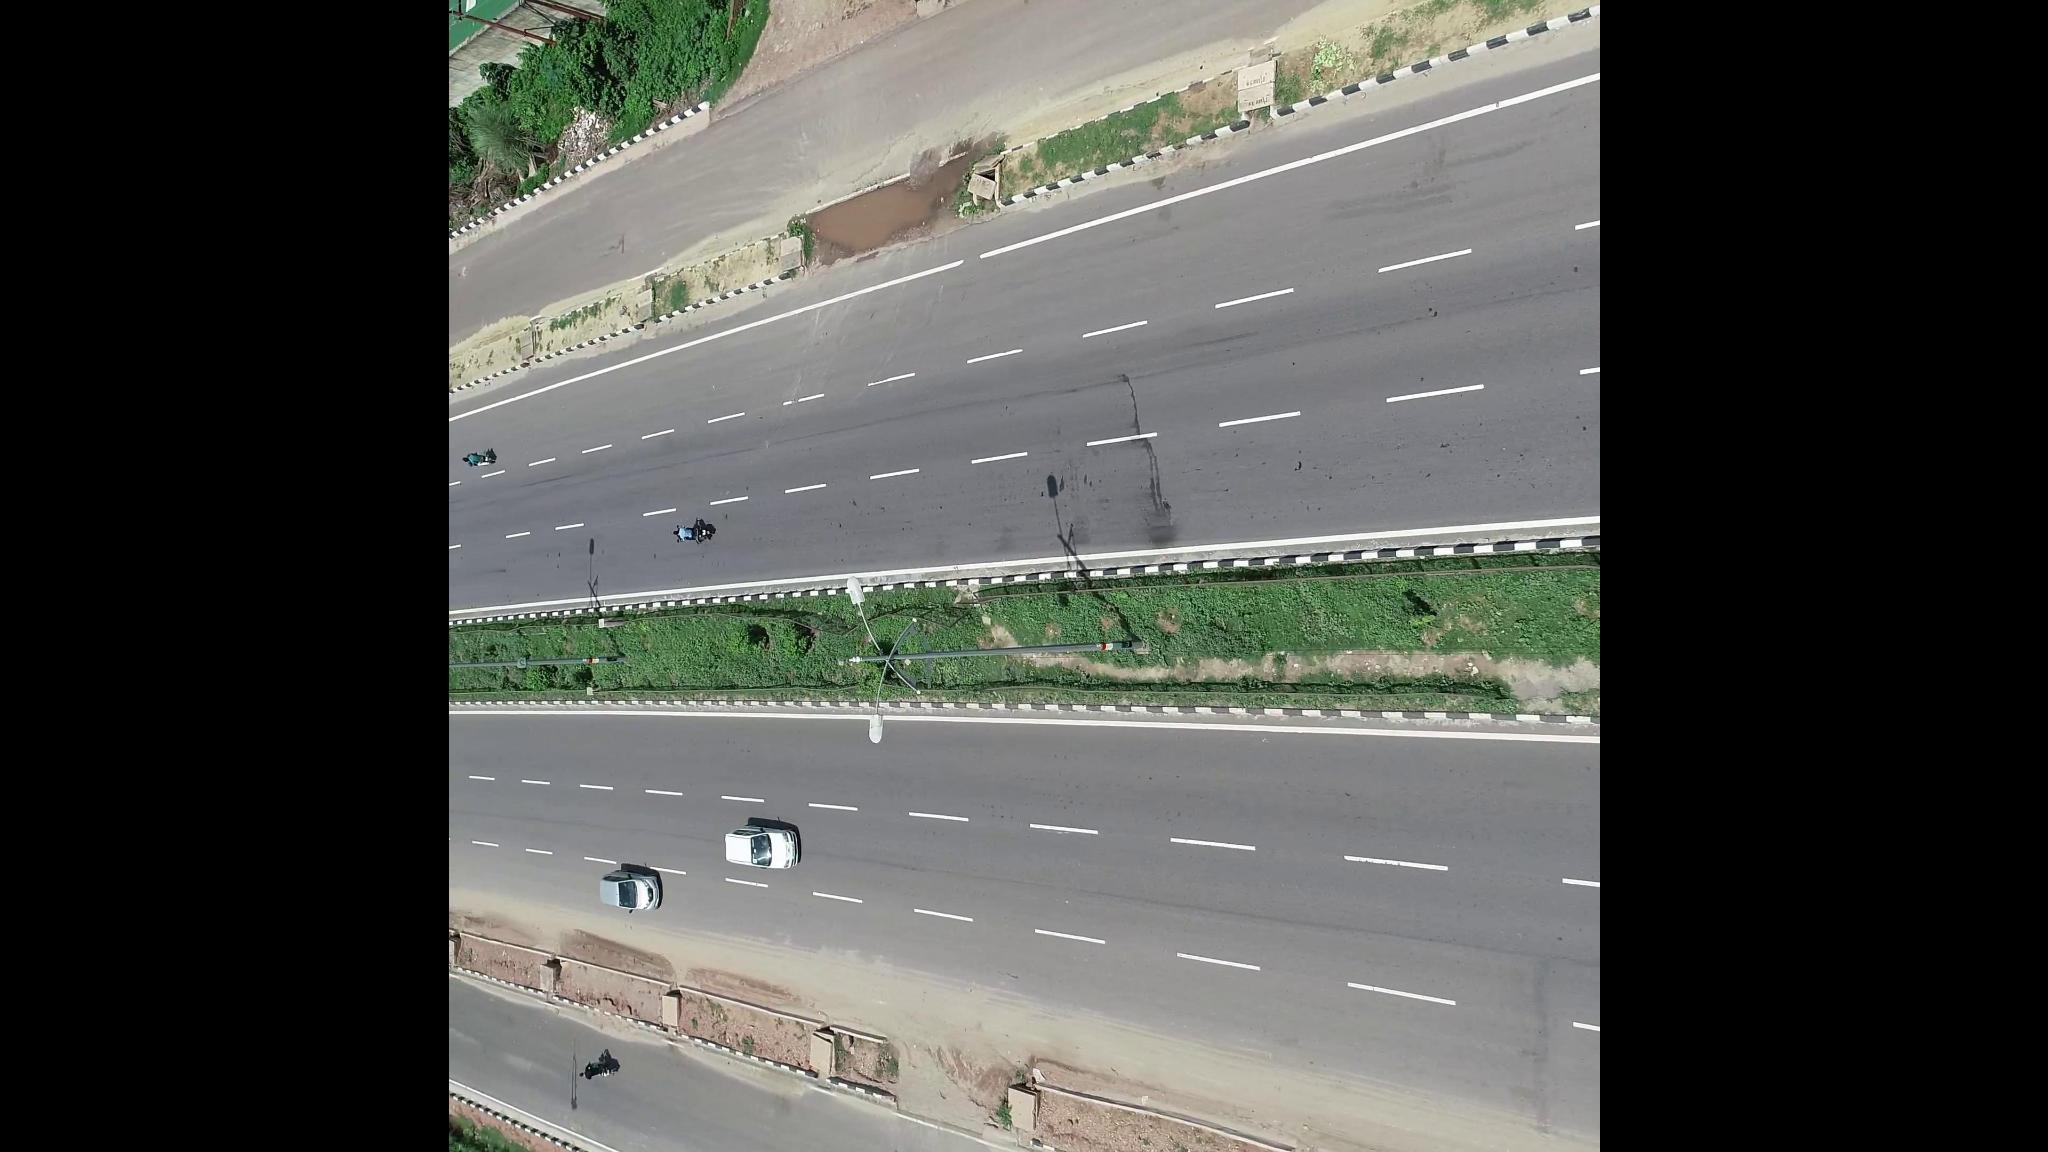Muddy_road: (1234, 1069, 1488, 1152), (563, 916, 686, 971), (691, 948, 821, 997)
